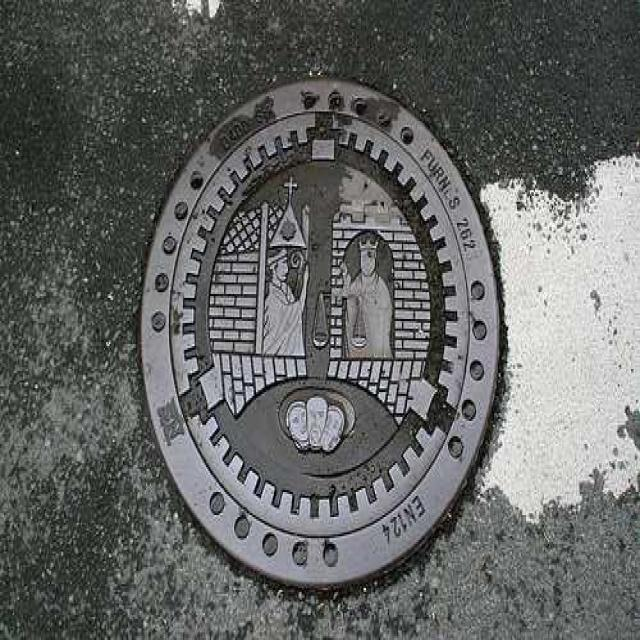manhole: (137, 77, 509, 594)
